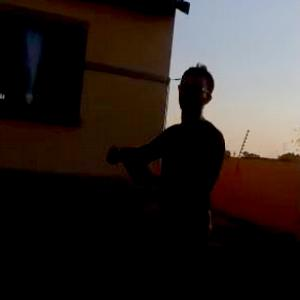follow: (102, 58, 229, 299)
